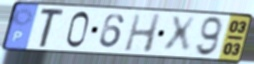0: (66, 10, 90, 49)
6: (98, 13, 125, 50)
9: (194, 15, 224, 58)
H: (123, 13, 164, 54)
T: (37, 8, 67, 49)
X: (162, 15, 199, 54)
